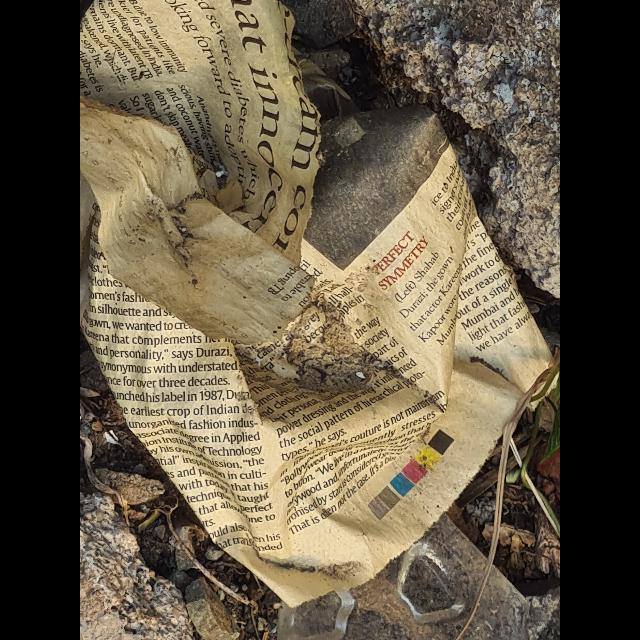trash: (80, 1, 558, 608)
